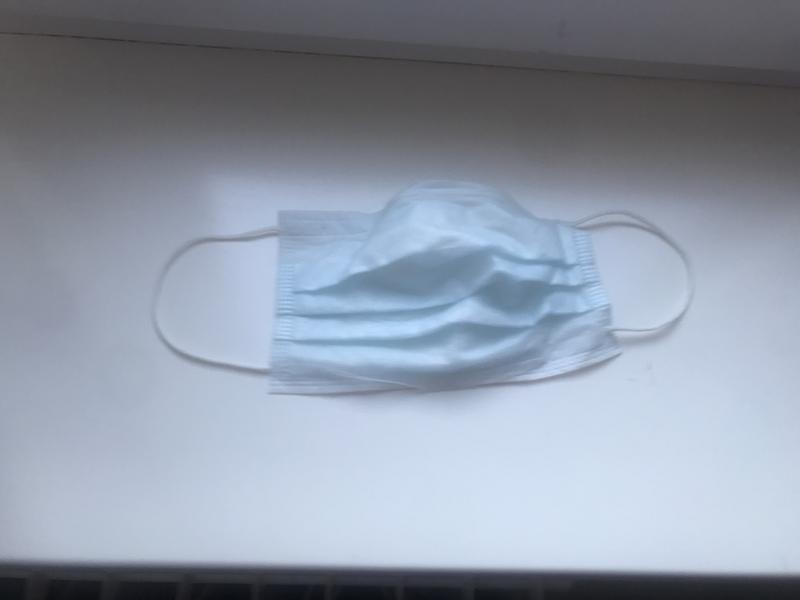medical_mask: (151, 180, 694, 393)
